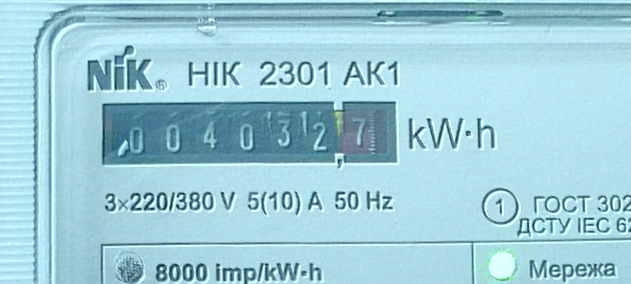0: (161, 120, 182, 153), (235, 118, 255, 152), (125, 121, 145, 154)
2: (309, 117, 328, 152)
3: (273, 115, 291, 148)
4: (198, 116, 219, 152)
7: (350, 113, 368, 147)
screen: (89, 86, 405, 181)
